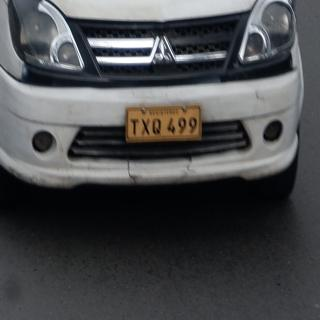license: (127, 106, 203, 144)
